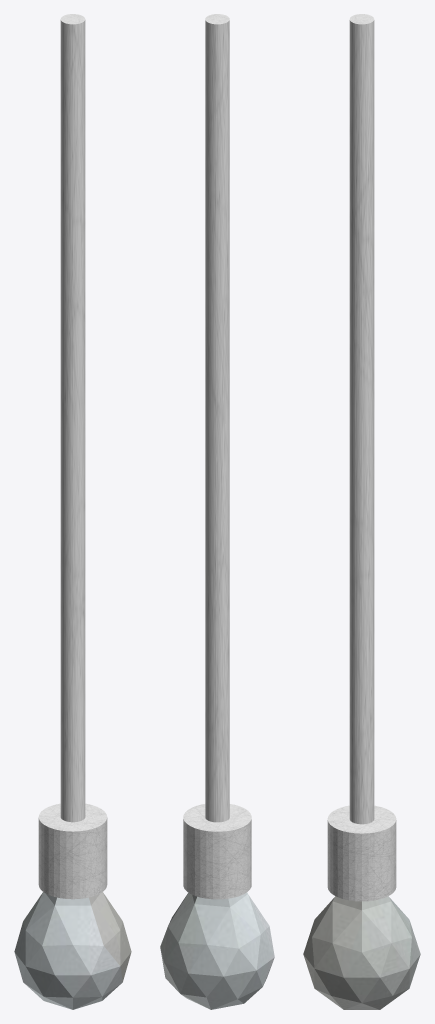
File: lightbulb.obj
The picture shows the model from 3 angles, left to right: view 1: azimuth 90°, elevation 25°; view 2: azimuth 150°, elevation 25°; view 3: azimuth 270°, elevation 25°; orthographic projection.
Visible parts, largest first — view 1: Cylinder.001, Icosphere, Cylinder; view 2: Cylinder.001, Icosphere, Cylinder; view 3: Cylinder.001, Icosphere, Cylinder.
Part boxes in pixels (x1,y1,x2,y2): Cylinder.001: (60,14,85,822); Icosphere: (14,892,131,1009); Cylinder: (38,803,107,899); Cylinder.001: (205,14,229,822); Icosphere: (160,892,274,1009); Cylinder: (183,804,251,899); Cylinder.001: (349,14,374,824); Icosphere: (303,896,420,1009); Cylinder: (327,805,396,901).
Size of the model in its own units: 1.9 by 18.56 by 2.
